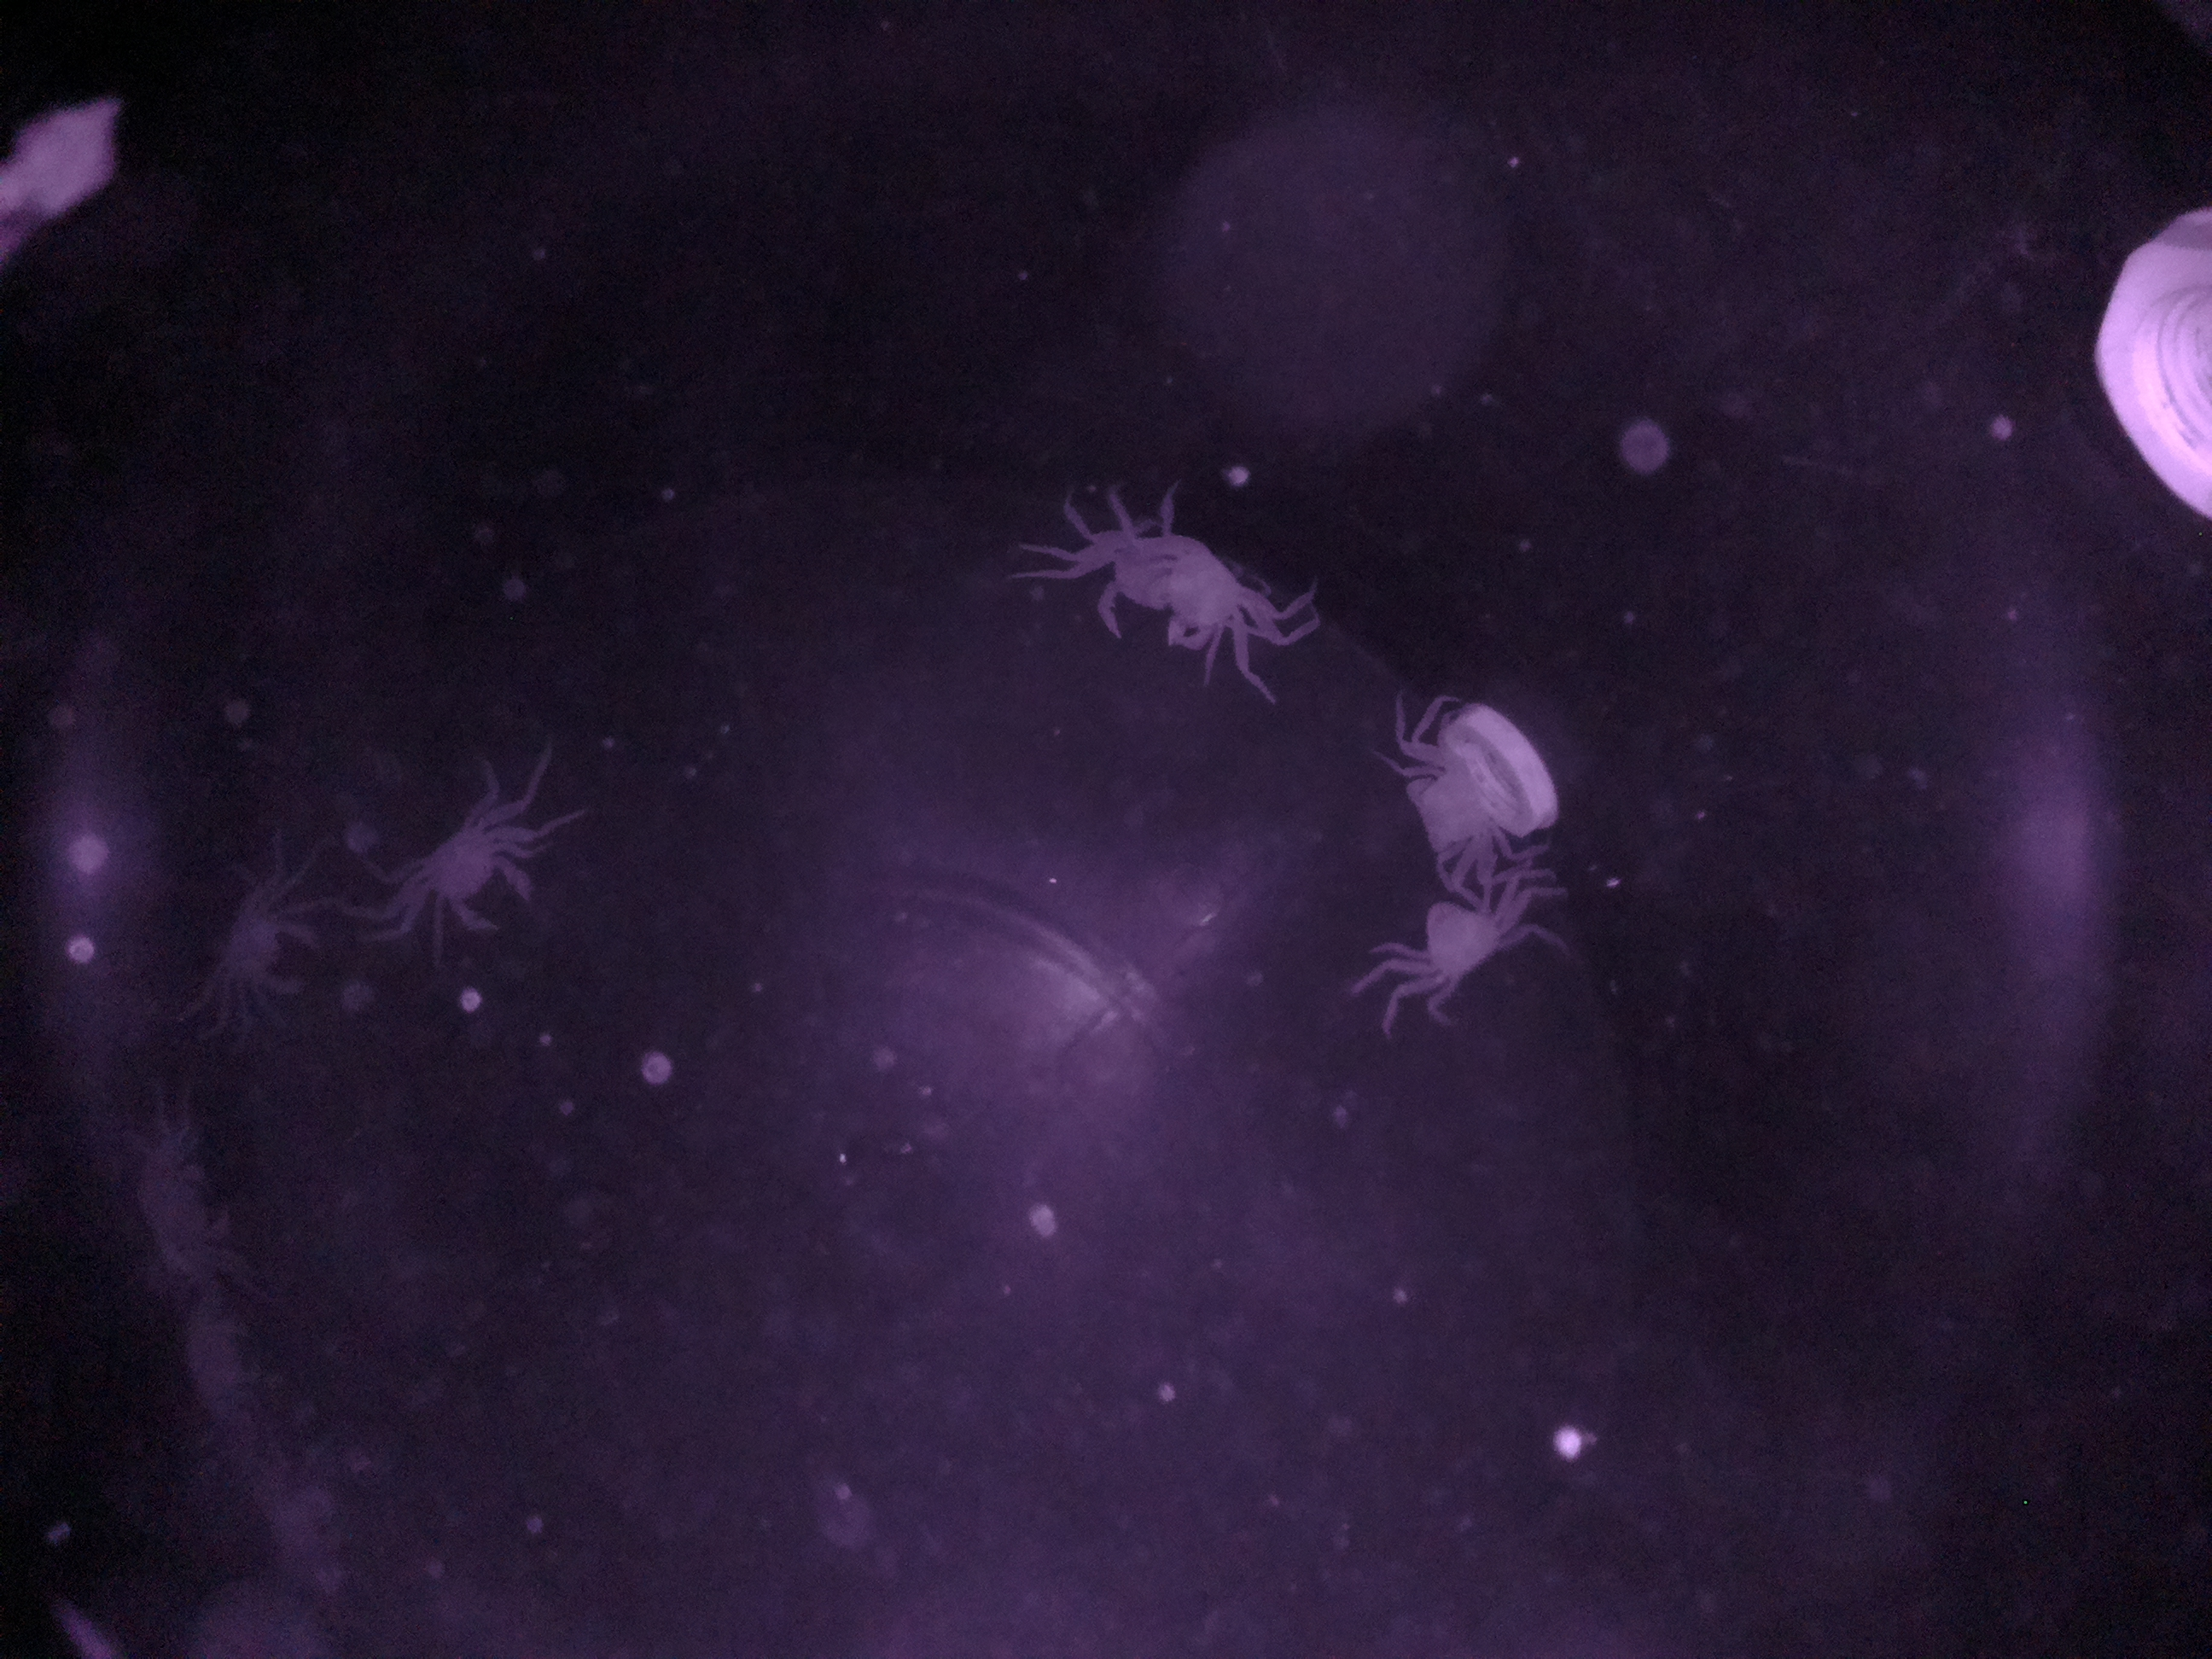Crab: (1346, 702, 1583, 906), (357, 753, 585, 964), (181, 800, 334, 1042), (1366, 863, 1555, 1026)
